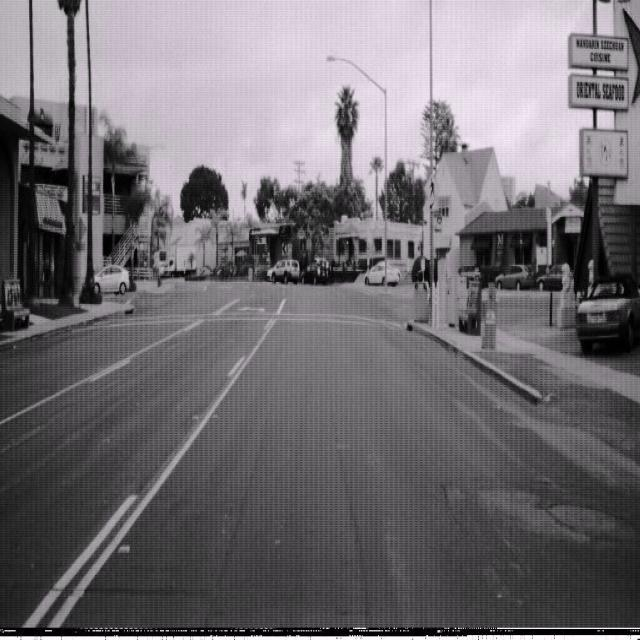pedestrianCrossing: (422, 170, 440, 206)
